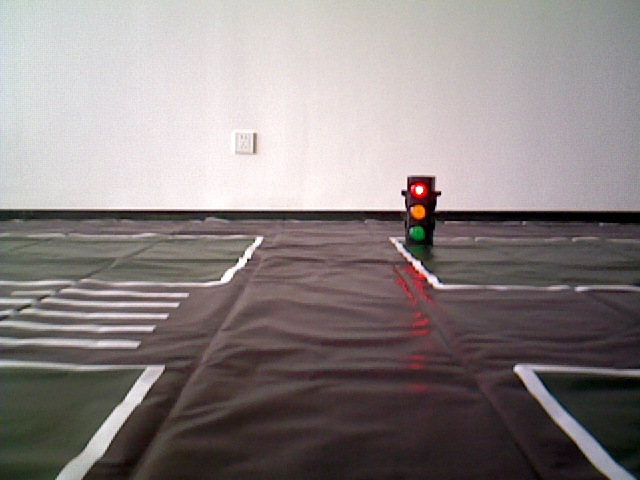red: (406, 177, 429, 243)
